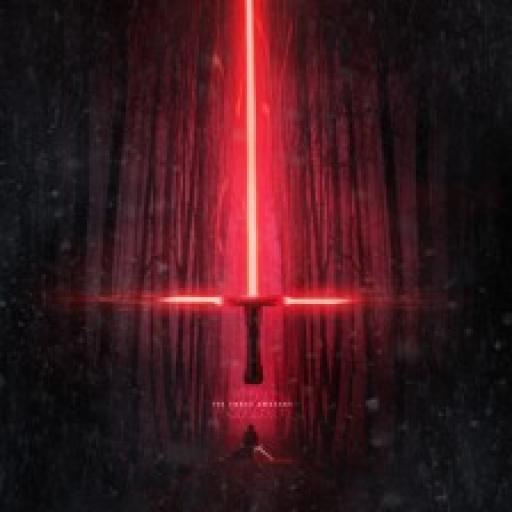sith saber: (156, 0, 351, 386)
